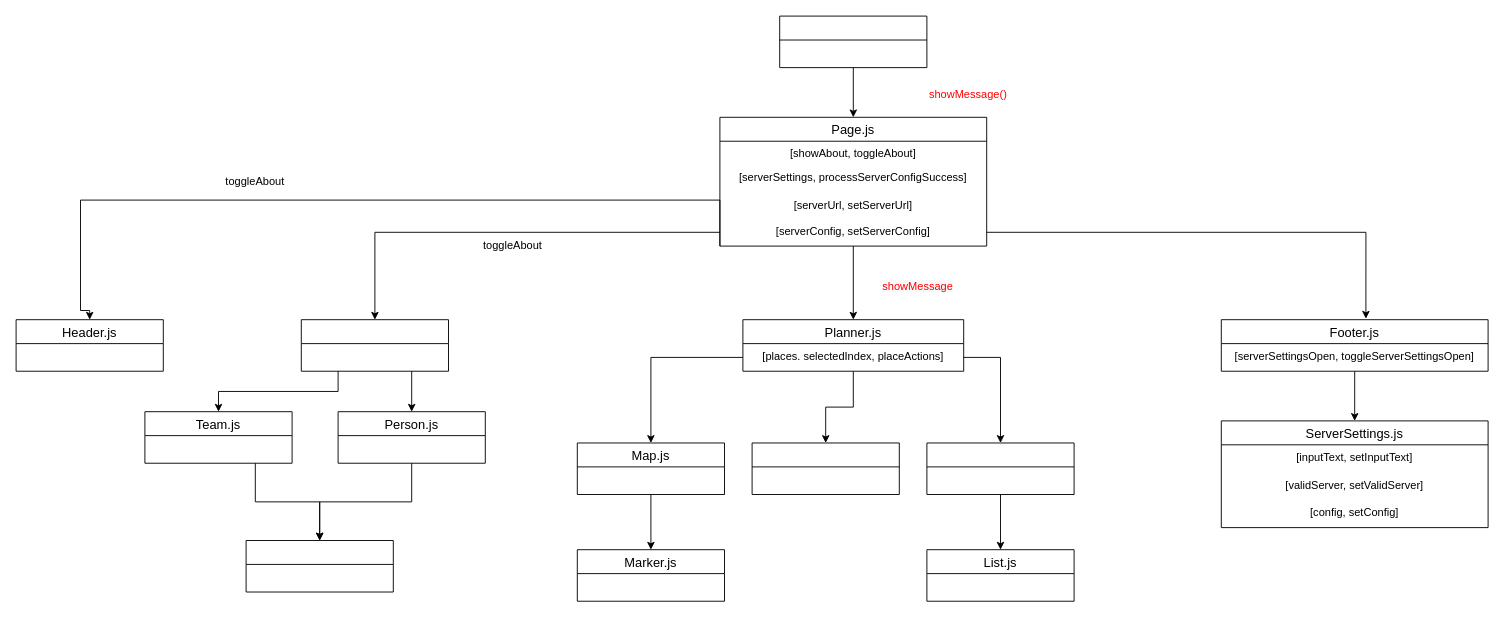
Some shapes in this 1504 by 617 pixel diagram are drawn without their labels. The centre of each missing label's shape, as x and y in pixels:
"About.js" goes at (374,345).
"AboutCard.js" goes at (319,566).
"App.js" goes at (853,41).
"FindModal.js" goes at (1000,468).
"Itinerary.js" goes at (825,468).
